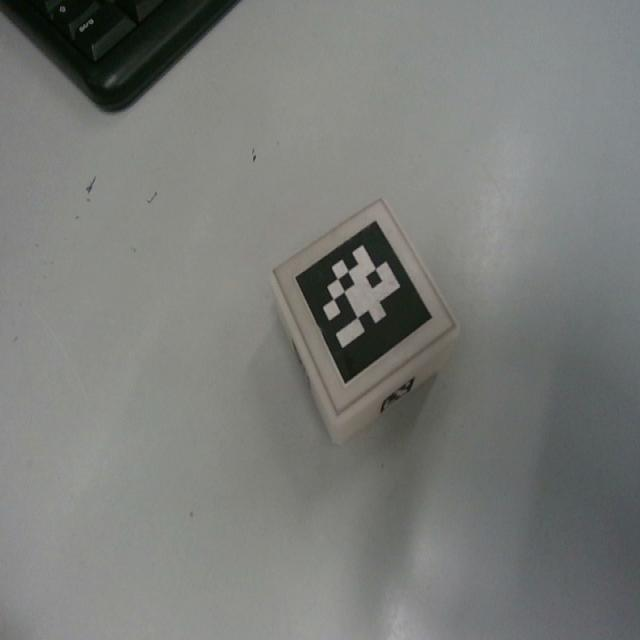Cube: (269, 195, 460, 444)
